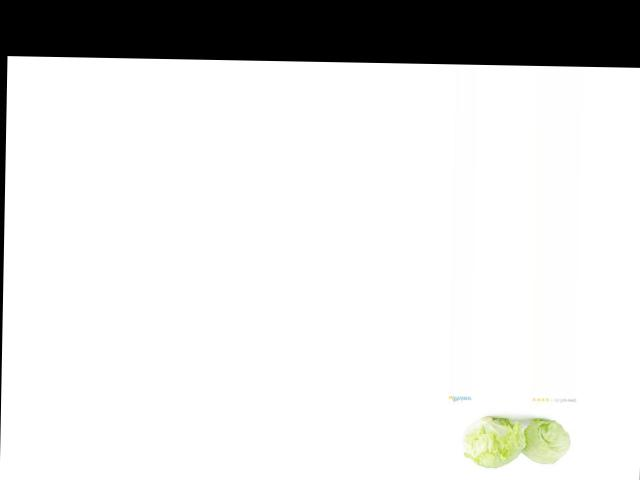lettuce: (507, 407, 572, 465)
